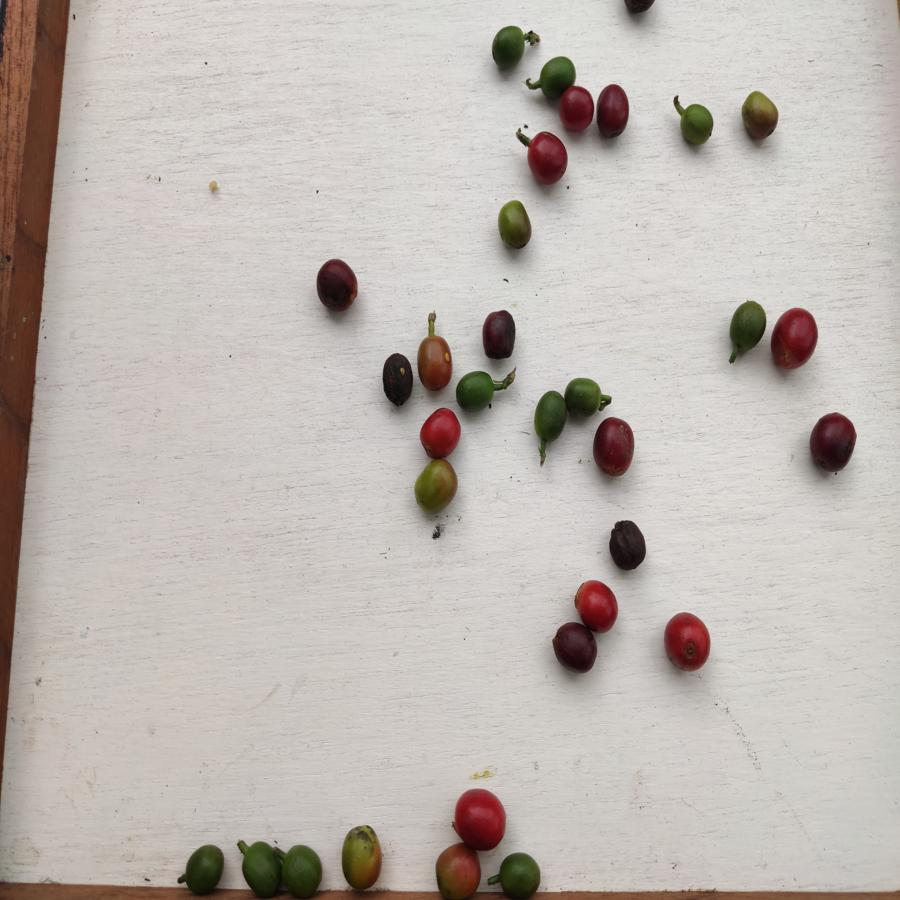Inmaduro: (727, 297, 770, 354), (242, 838, 283, 895), (281, 843, 324, 897), (183, 843, 224, 893), (563, 377, 612, 417), (455, 370, 500, 413), (673, 101, 715, 145), (531, 388, 567, 439), (500, 851, 541, 895), (490, 25, 526, 70), (533, 57, 577, 84)
Maduro: (449, 788, 510, 848), (661, 611, 714, 675), (771, 306, 818, 372), (526, 131, 570, 188), (573, 578, 619, 631), (422, 407, 463, 458), (560, 86, 596, 133)
Pinton: (338, 825, 384, 890), (433, 843, 483, 899), (413, 458, 462, 513), (739, 90, 780, 142), (415, 335, 453, 389), (495, 201, 536, 250)
Sobremaduro: (808, 408, 858, 475), (313, 258, 363, 317), (591, 415, 636, 477), (550, 623, 600, 675), (596, 83, 636, 144), (607, 518, 648, 573), (481, 310, 518, 359), (381, 354, 413, 406)
